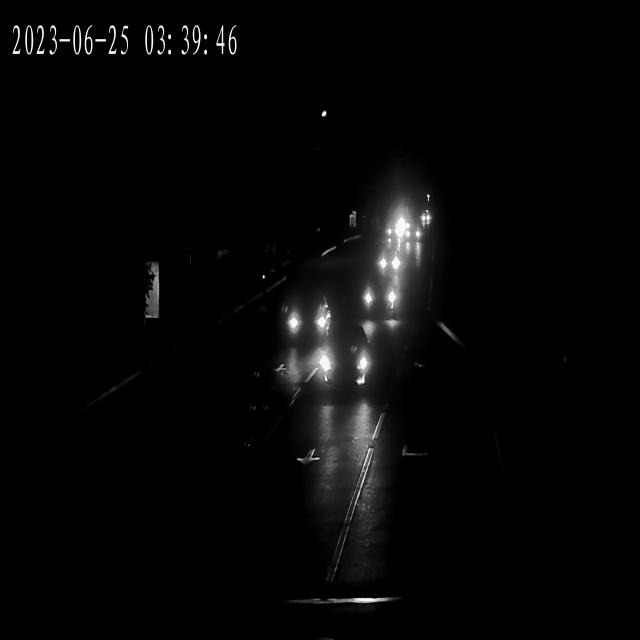Car: (323, 323, 371, 408), (288, 291, 332, 350), (364, 265, 400, 314), (384, 222, 403, 250), (406, 224, 422, 246), (420, 215, 431, 227)
